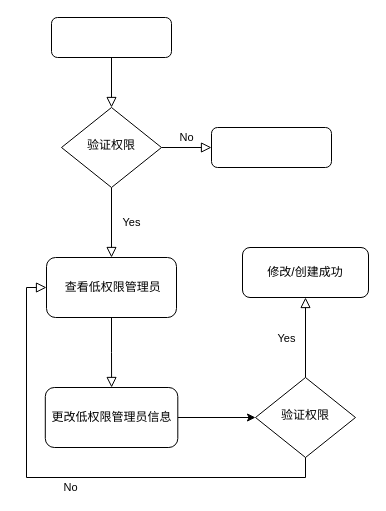
Some shapes in this 386 by 511 pixel diagram are drawn without their labels. The shapes that lost their labels are listed below. From the top down, each one's centre as x and y in pixels, then its label:
At point 111,37: "权限管理".
At point 271,147: "弹出提示".
